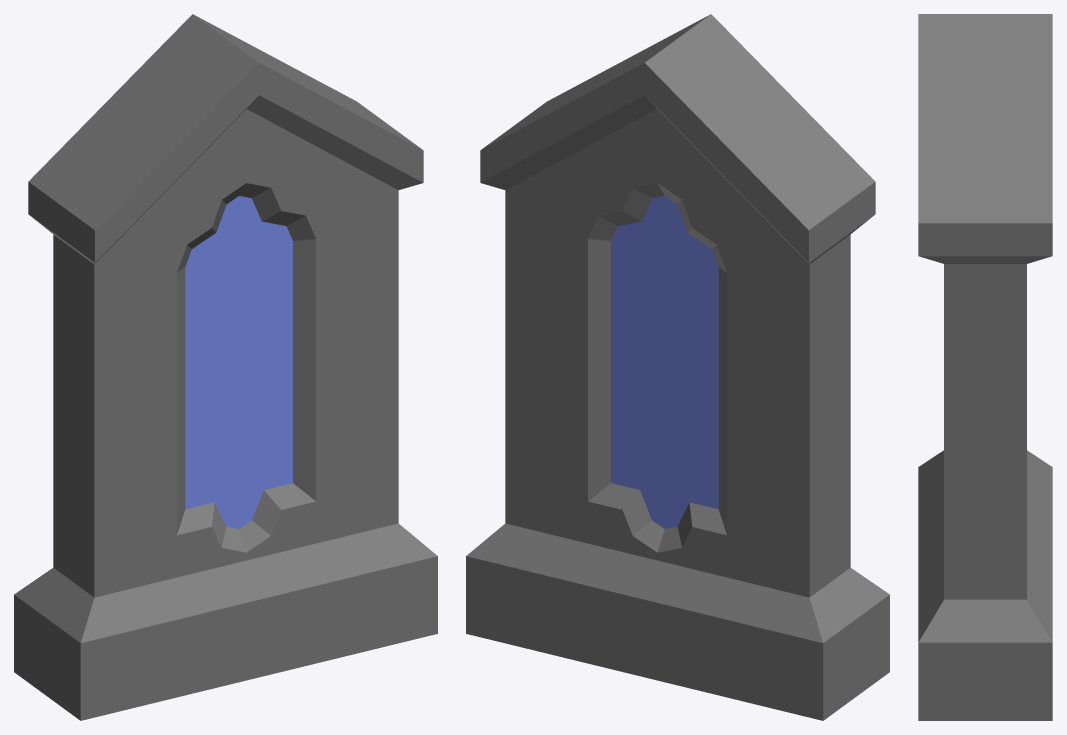
Rendered from SM_Grave_06.fbx.
3 views of the same model, side by side, from view 1: azimuth 30°, elevation 25°; view 2: azimuth 150°, elevation 25°; view 3: azimuth 270°, elevation 25° (orthographic).
Visible parts, largest first — view 1: Box005; view 2: Box005; view 3: Box005.
Part boxes in pixels (bbox=[...]): Box005: bbox=[14, 14, 437, 720]; Box005: bbox=[466, 14, 889, 720]; Box005: bbox=[918, 14, 1052, 720].
Bounding box in the file's own units: 66.35 × 109 × 21.45.
